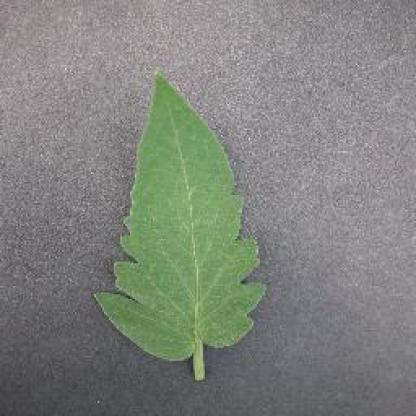bad leaf: (123, 81, 291, 388)
